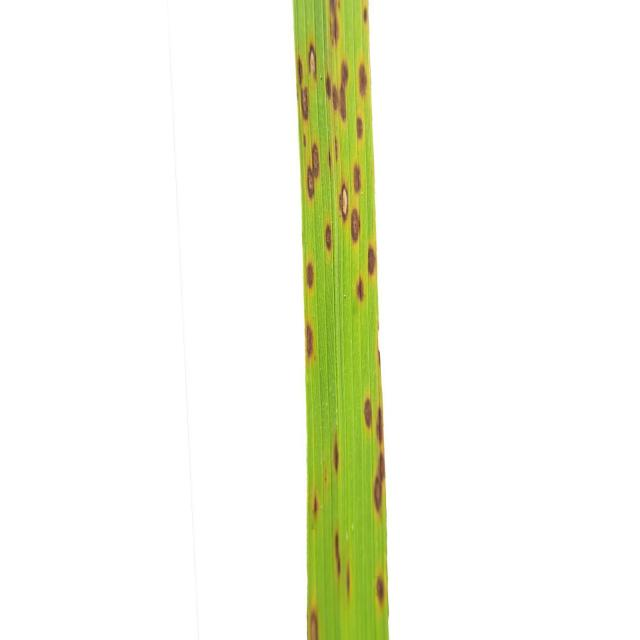Brown_Spot: (329, 0, 340, 43), (319, 145, 336, 171), (372, 475, 384, 511), (306, 166, 318, 198), (351, 209, 361, 242), (359, 64, 368, 97), (309, 610, 319, 639), (376, 408, 384, 444), (311, 144, 320, 176), (300, 88, 309, 120), (339, 185, 349, 213), (308, 494, 319, 517), (376, 576, 385, 604), (306, 325, 314, 356), (335, 532, 341, 573), (308, 45, 316, 75), (368, 246, 376, 274), (306, 262, 314, 288), (364, 398, 372, 422), (354, 165, 361, 192), (341, 61, 349, 83), (325, 225, 332, 250), (340, 89, 346, 118), (356, 279, 364, 300), (332, 86, 339, 109), (334, 439, 339, 471), (346, 564, 351, 595), (379, 452, 385, 477), (362, 6, 369, 24), (356, 118, 362, 138), (326, 76, 331, 98), (298, 59, 302, 82), (334, 138, 338, 159), (299, 58, 301, 73)
